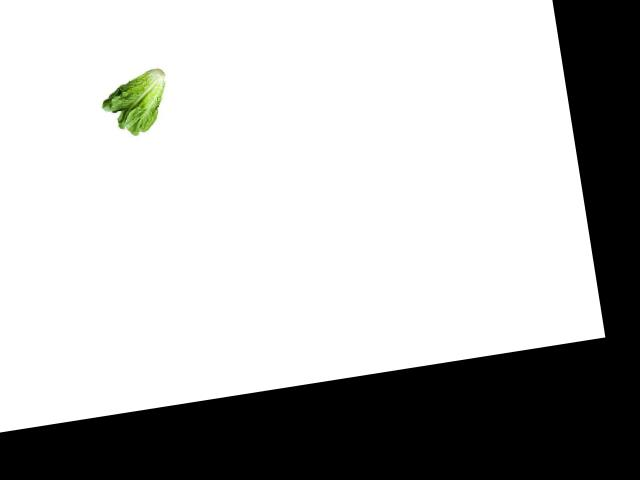lettuce: (97, 65, 177, 148)
